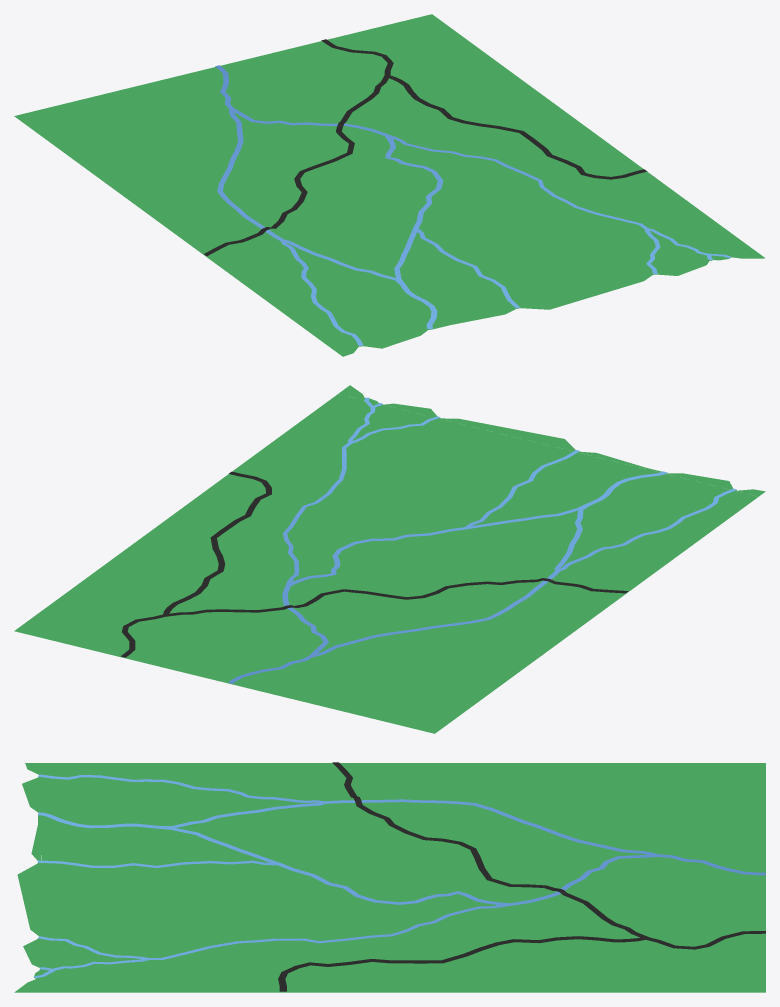
The model's file is 02_hiver.glb.
3 views of the same model, one above another, from view 1: azimuth 30°, elevation 25°; view 2: azimuth 150°, elevation 25°; view 3: azimuth 270°, elevation 25° (orthographic). The views are drawn at different scales.
Parts seen in each view (by area): view 1: 02_sol, 02_riviere, 02_route, 02_sol.cote; view 2: 02_sol, 02_riviere, 02_route, 02_sol.cote; view 3: 02_sol, 02_riviere, 02_route, 02_sol.cote.
Part boxes in pixels (left/top/right/bottom): 02_sol: left=14, top=14, right=753, bottom=351; 02_riviere: left=215, top=65, right=730, bottom=345; 02_route: left=204, top=39, right=647, bottom=255; 02_sol.cote: left=336, top=249, right=765, bottom=356; 02_sol: left=14, top=394, right=758, bottom=733; 02_riviere: left=228, top=397, right=736, bottom=683; 02_route: left=120, top=471, right=628, bottom=657; 02_sol.cote: left=338, top=385, right=765, bottom=496; 02_sol: left=41, top=763, right=765, bottom=992; 02_riviere: left=34, top=774, right=765, bottom=978; 02_route: left=278, top=762, right=765, bottom=991; 02_sol.cote: left=14, top=763, right=41, bottom=992.
Bounding box in the file's own units: 60 × 0.4005 × 83.01.
2 materials, 2 textured.
